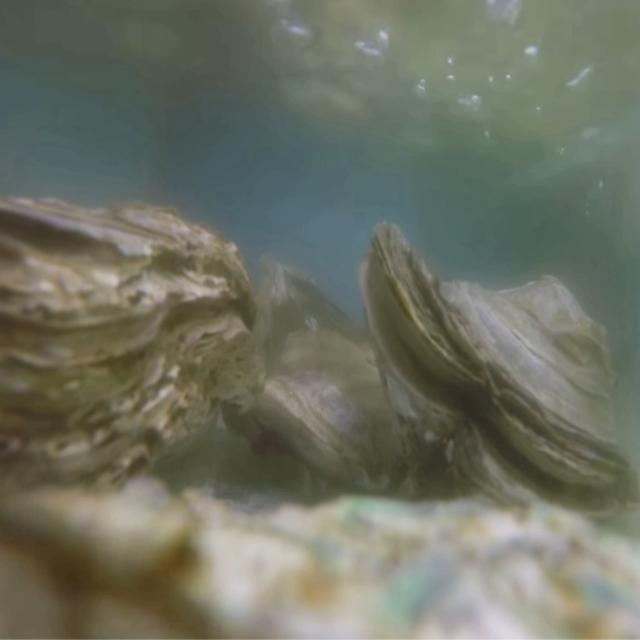Oyster-Closed: (0, 193, 256, 524)
Oyster-Indeterminate: (0, 478, 640, 640), (259, 328, 422, 504)
Oyster-Open: (358, 221, 640, 535)
